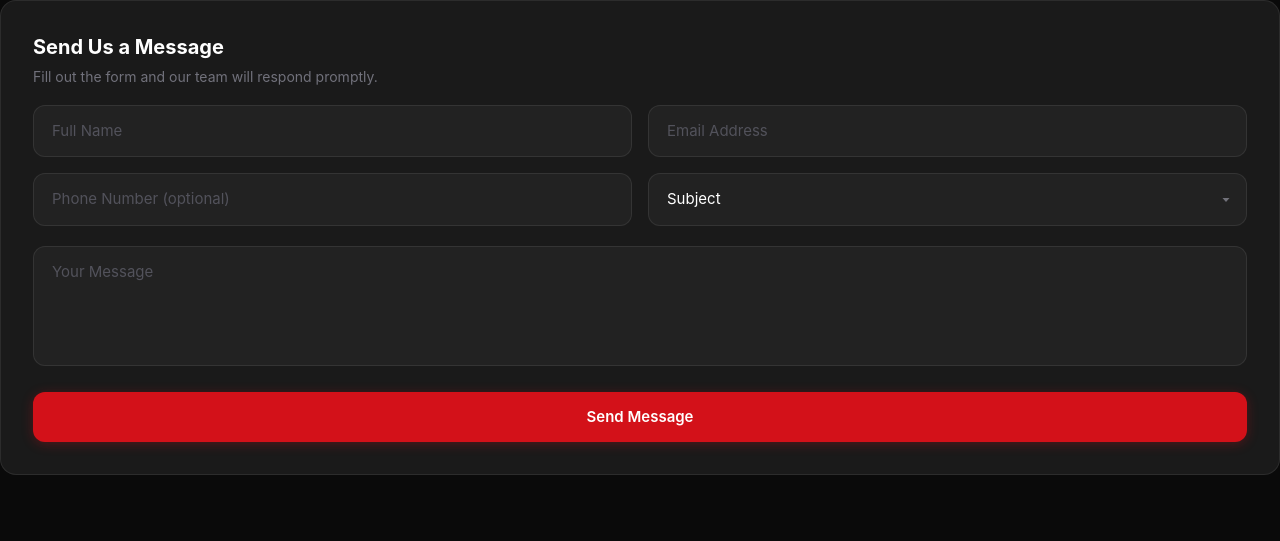
Test: contact form › validates required fields before submitting
Click the button "Send Message".
click(640, 417)  # box [33,392,1247,442]
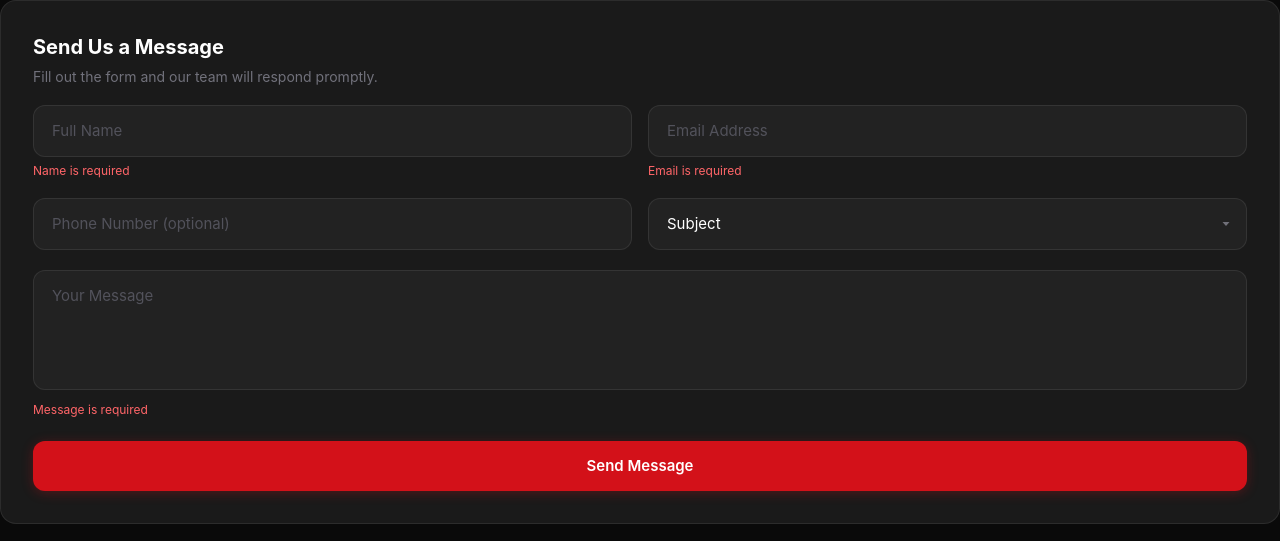
Now the text "Name is required" is shown, box [33,163,130,178]
Now the text "Email is required" is shown, box [648,163,742,178]
Now the text "Message is required" is shown, box [33,402,148,417]
